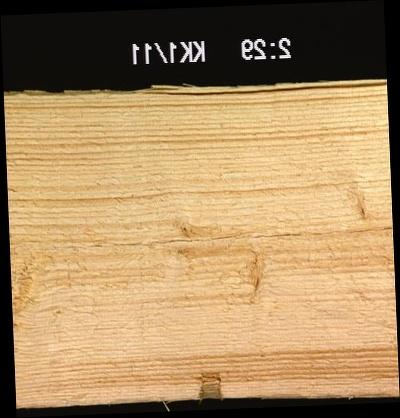split: (15, 224, 392, 247), (134, 82, 386, 95)
